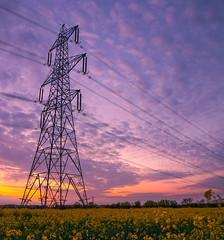power_tower: (22, 18, 90, 208)
